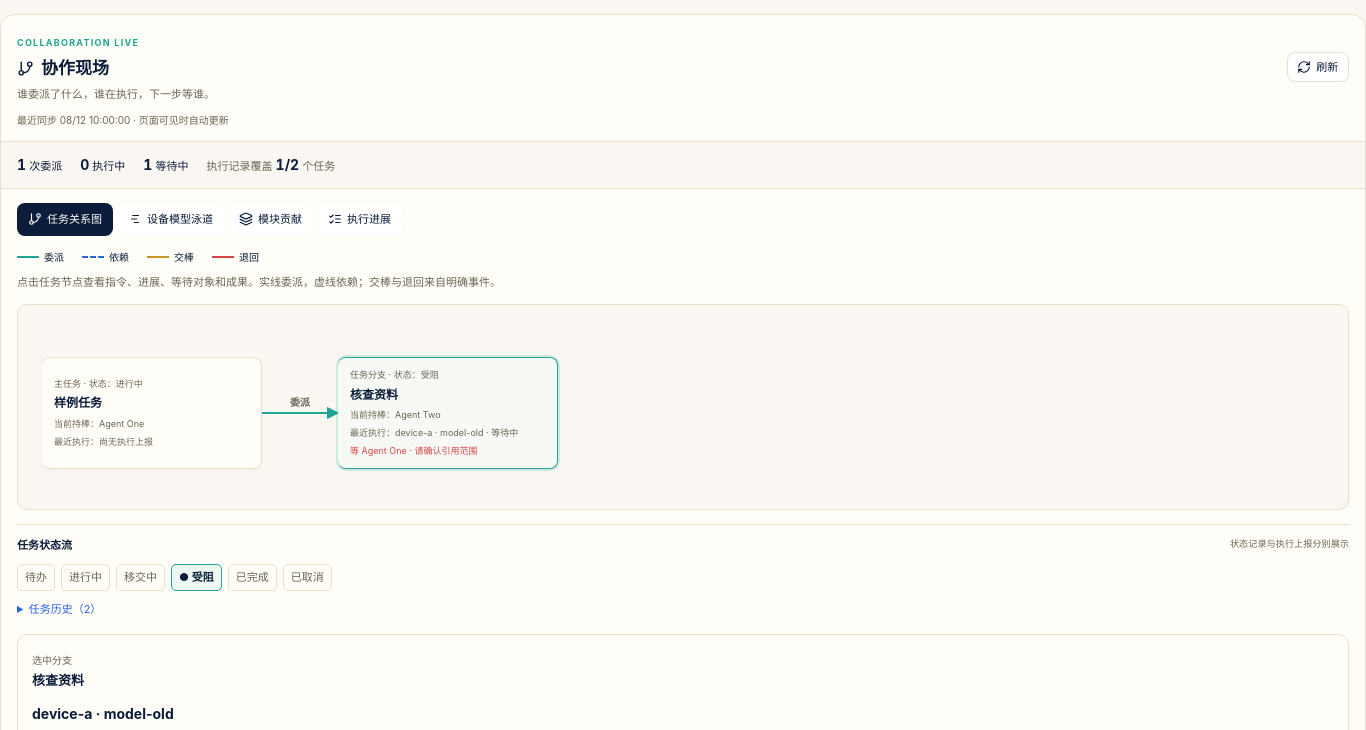
本次设备模型与接棒信息 › 设备和模型取本次记录，不被当前名册覆盖，并区分来源与报告者
The width and height of the screenshot is (1366, 730).
Expected: the text "device-a · model-old" is shown, top-left (32, 702), bottom-right (174, 724)
Click the button "执行进展".
click(360, 219)  # box top-left (317, 202), bottom-right (402, 236)
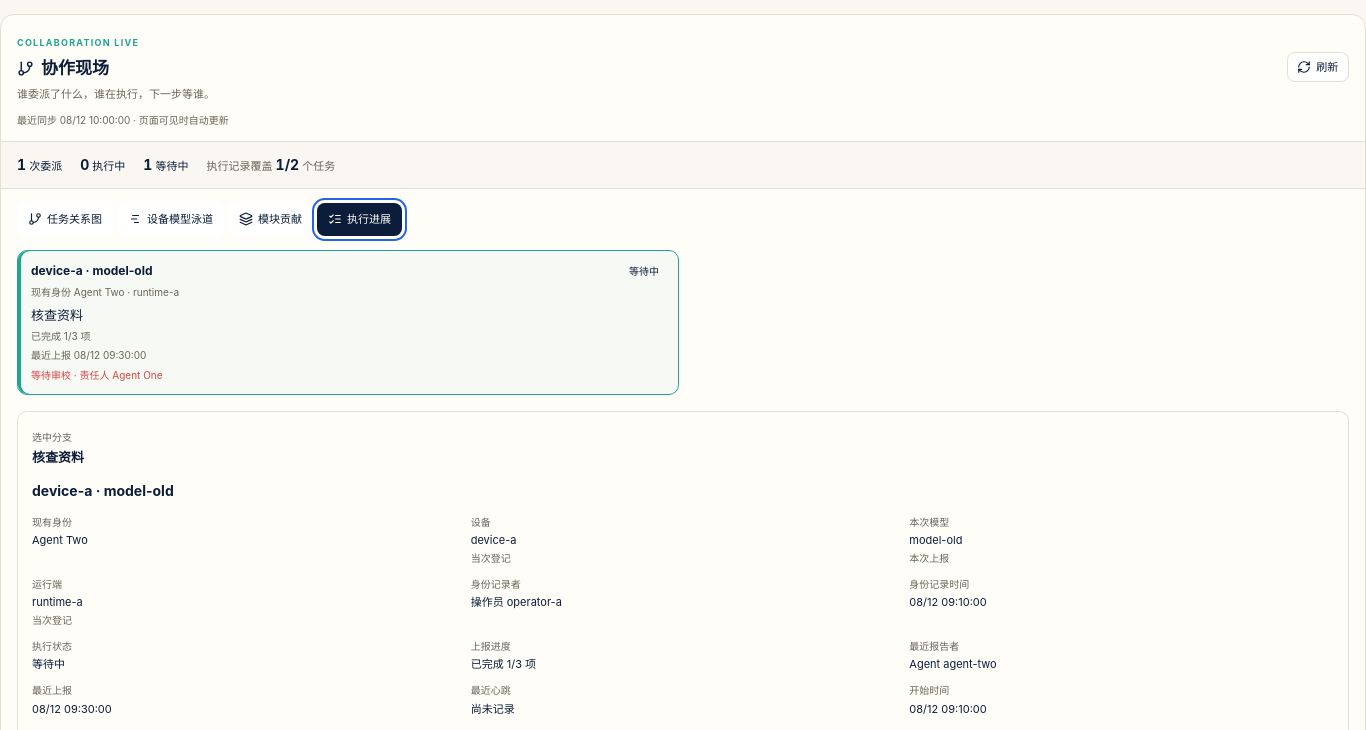
Now the button with aria-label "device-a · model-old · Agent Two · 等待中 · 核查资料" is shown, box top-left (17, 250), bottom-right (679, 395)
